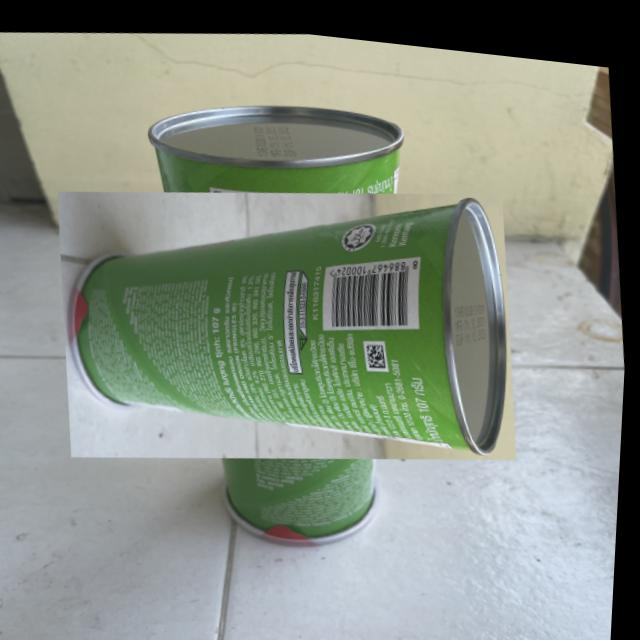a pringles: (86, 106, 492, 530)
